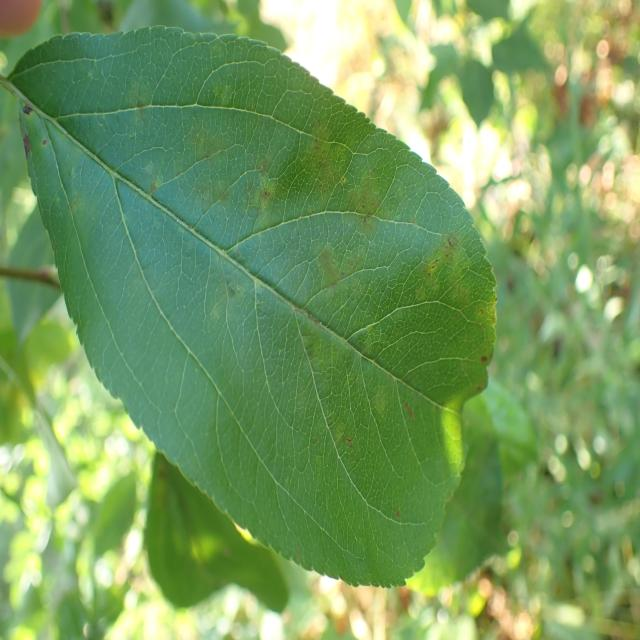scab: (39, 17, 495, 571)
